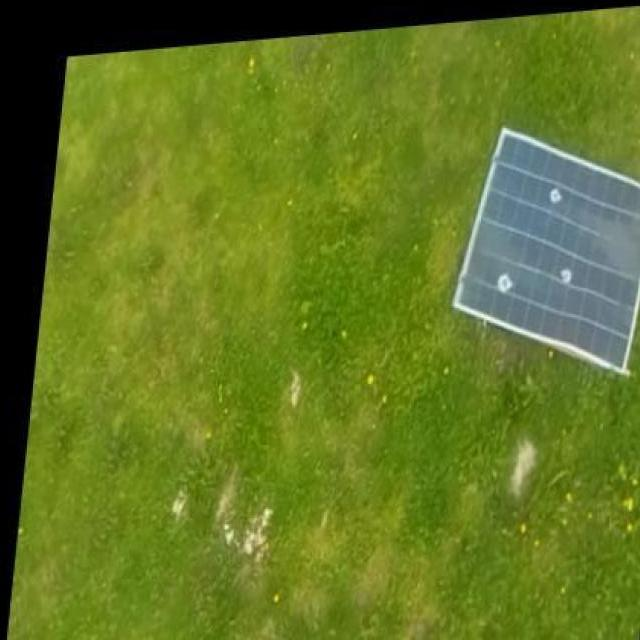soiled: (449, 118, 637, 368)
